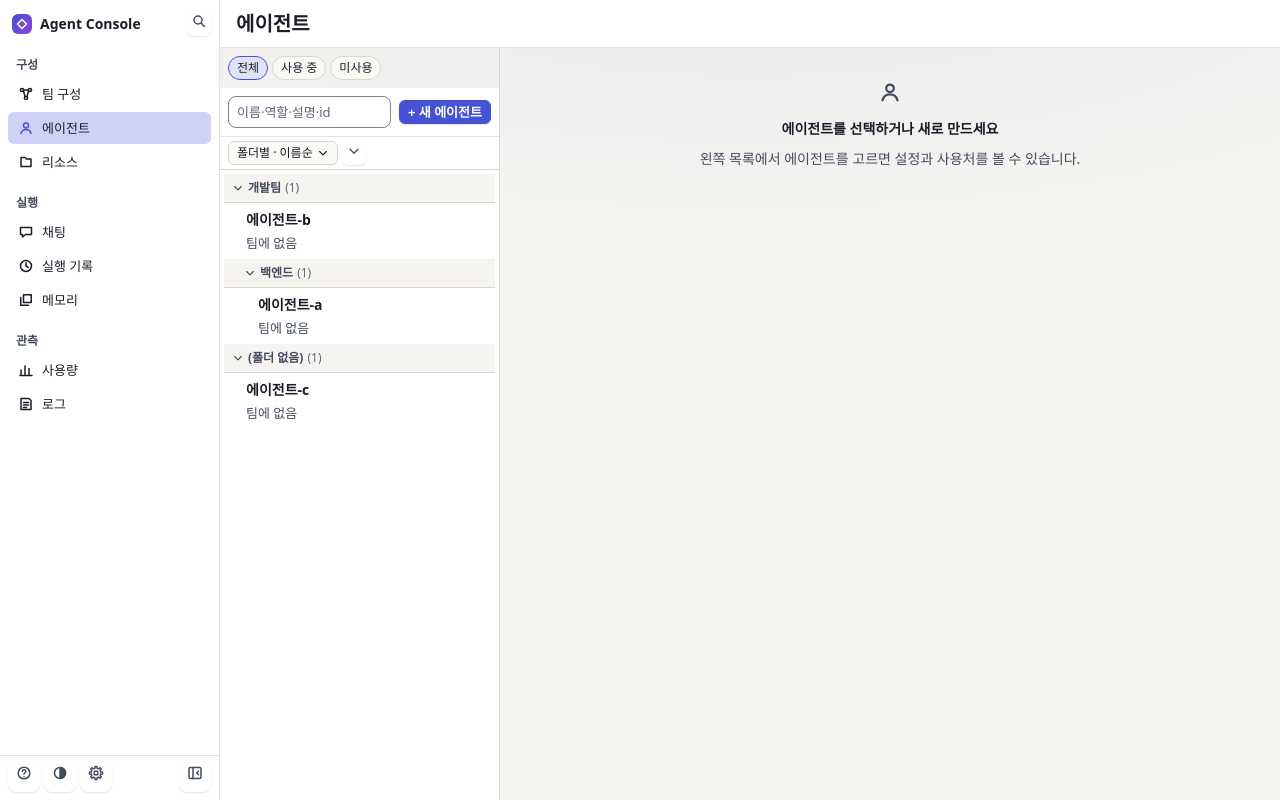
에이전트 목록 묶기(화면) › 폴더 값이 있으면 머리가 계층으로 보이고 접으면 기억한다
Click the button with class "ac-grouphead" showing "개발팀 (1)" at [265, 188], box [224, 174, 495, 202]
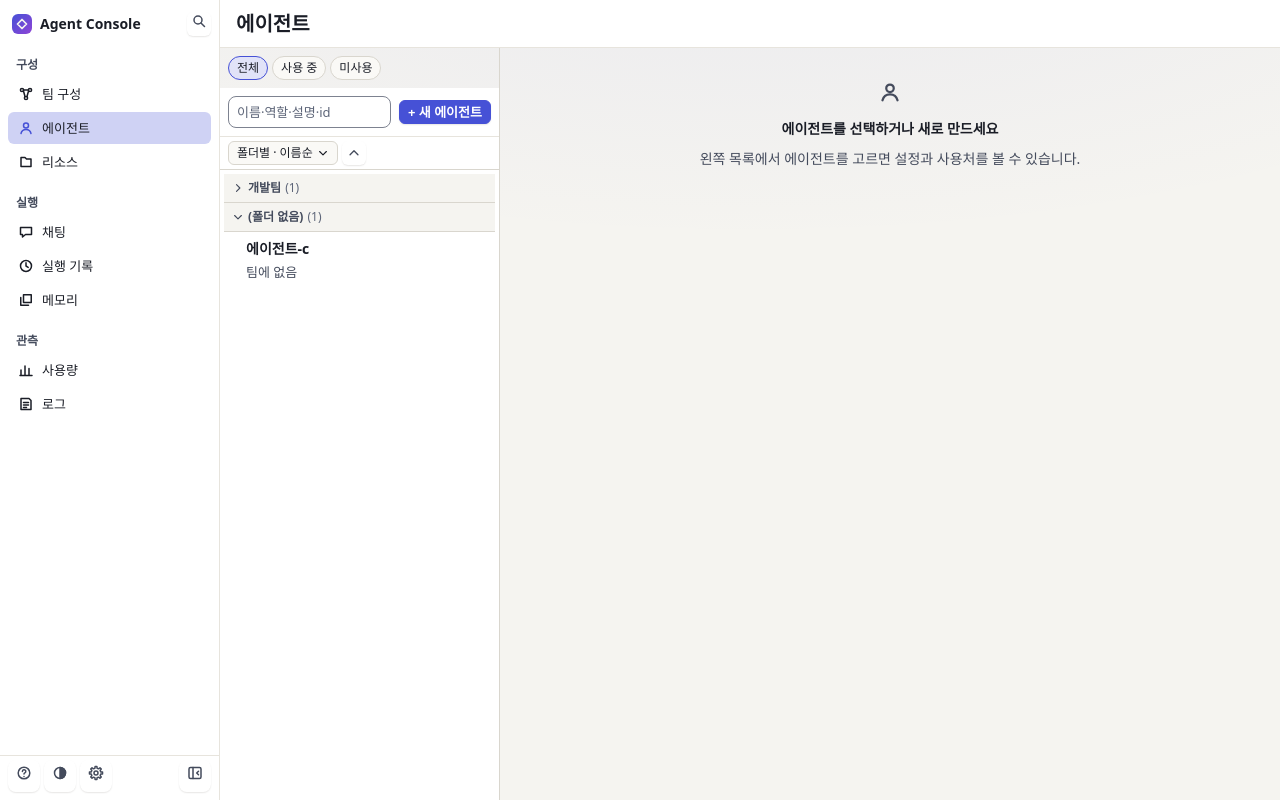
Check: the option "에이전트-a" is gone
